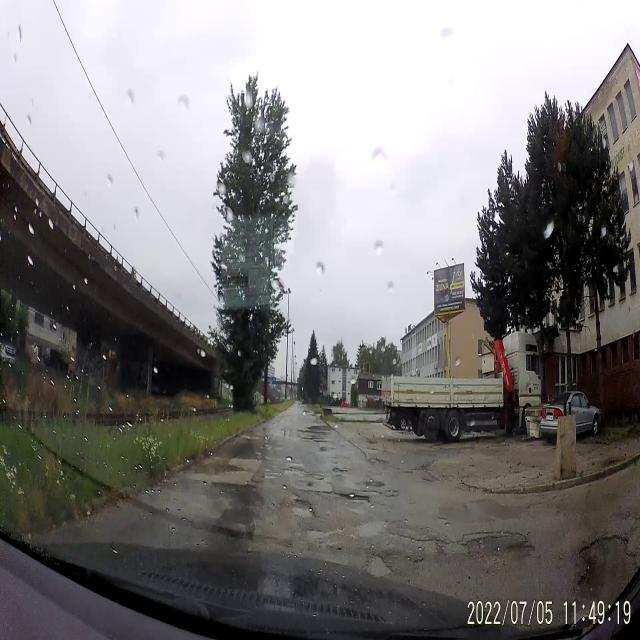Manhole: (364, 478, 386, 490), (307, 472, 327, 483)
Pothole: (573, 534, 640, 617), (458, 528, 538, 568), (363, 552, 395, 582), (288, 494, 316, 524), (413, 533, 451, 546), (338, 489, 368, 504), (454, 478, 479, 494), (436, 512, 454, 530), (283, 465, 306, 478), (385, 486, 402, 500), (333, 464, 348, 477), (400, 469, 415, 476), (422, 476, 433, 485)
